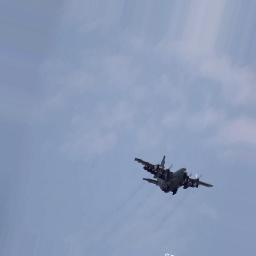Airplane: (134, 154, 216, 195)
